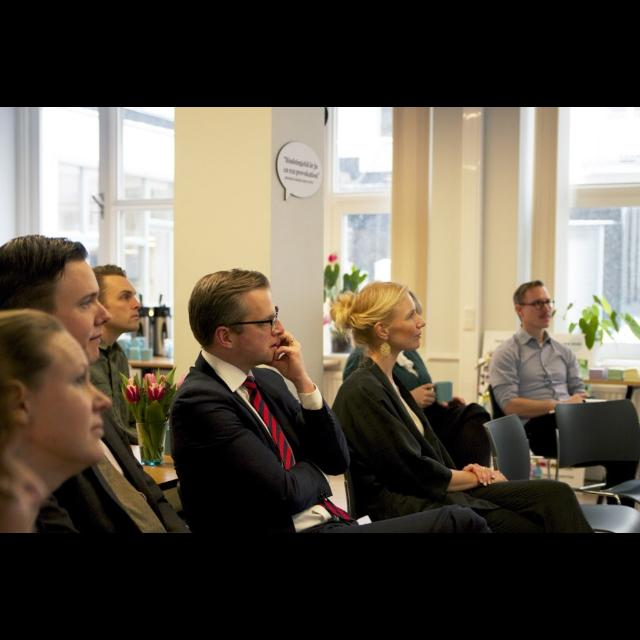Flower: (122, 384, 146, 406), (149, 387, 163, 403), (144, 376, 158, 386), (158, 374, 166, 386), (328, 253, 337, 263), (324, 316, 328, 324)
